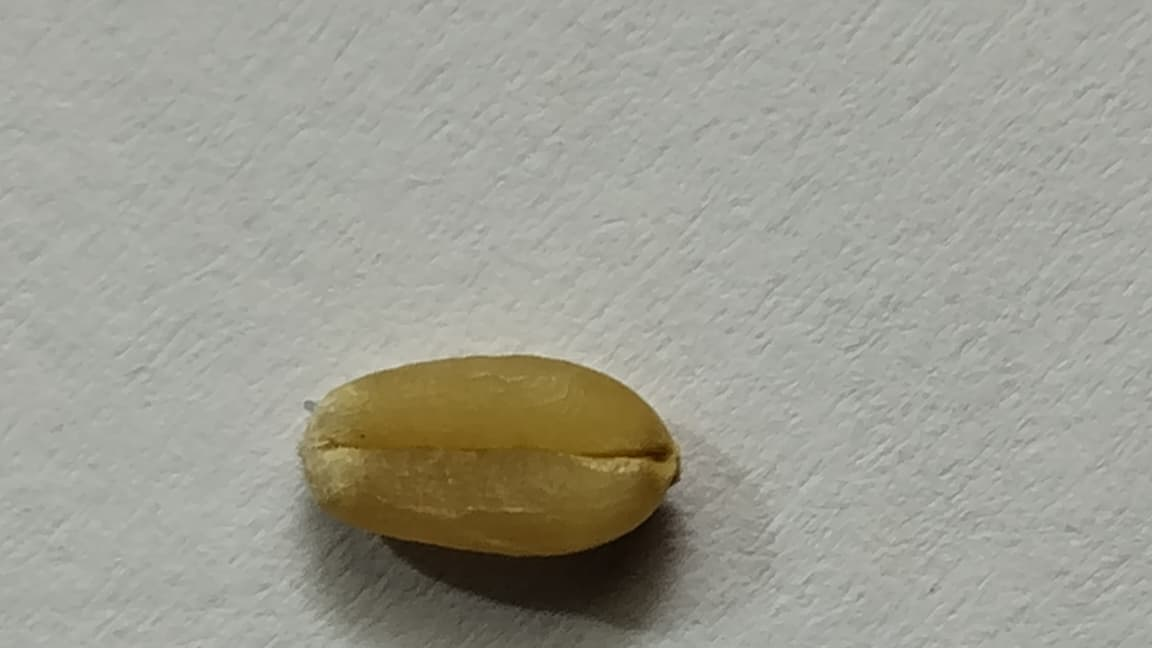healthy: (299, 355, 679, 554)
